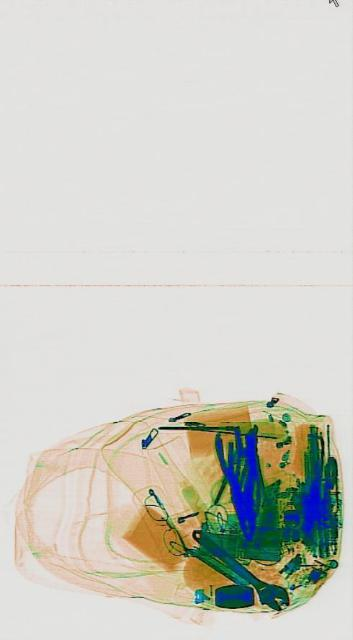Pliers: (211, 422, 267, 550)
Wrench: (186, 516, 291, 622)
